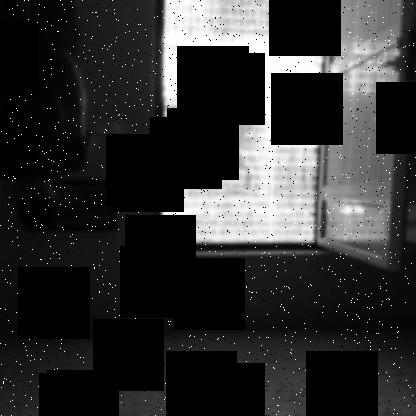Porte: (144, 1, 415, 275)
